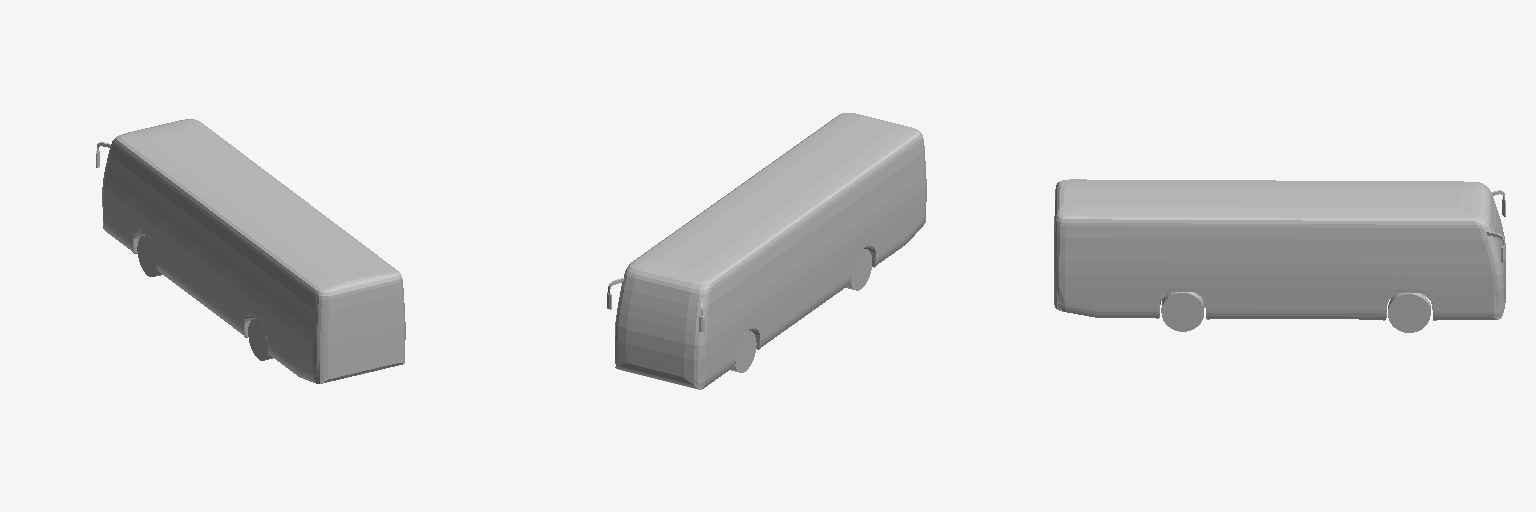
Rendered from bustest.obj.
3 views of the same model, side by side, from view 1: azimuth 30°, elevation 25°; view 2: azimuth 150°, elevation 25°; view 3: azimuth 270°, elevation 25° (orthographic).
Visible parts, largest first — view 1: Cube_Cube.002, Cylinder.002_Cylinder.003, Cylinder.004_Cylinder.005; view 2: Cube_Cube.002, Cylinder.004_Cylinder.005, Cylinder.002_Cylinder.003; view 3: Cube_Cube.002, Cylinder.005_Cylinder.006, Cylinder.006.
Boxes of the visible parts, <box> form: Cube_Cube.002: <box>102,119,405,383</box>; Cylinder.002_Cylinder.003: <box>248,319,272,360</box>; Cylinder.004_Cylinder.005: <box>137,235,162,276</box>; Cube_Cube.002: <box>615,113,926,389</box>; Cylinder.004_Cylinder.005: <box>730,331,756,372</box>; Cylinder.002_Cylinder.003: <box>846,249,871,290</box>; Cube_Cube.002: <box>1054,179,1505,320</box>; Cylinder.005_Cylinder.006: <box>1388,293,1430,332</box>; Cylinder.006: <box>1161,292,1203,331</box>.
Bounding box in the file's own units: 0.0506 × 0.0557 × 0.1995.